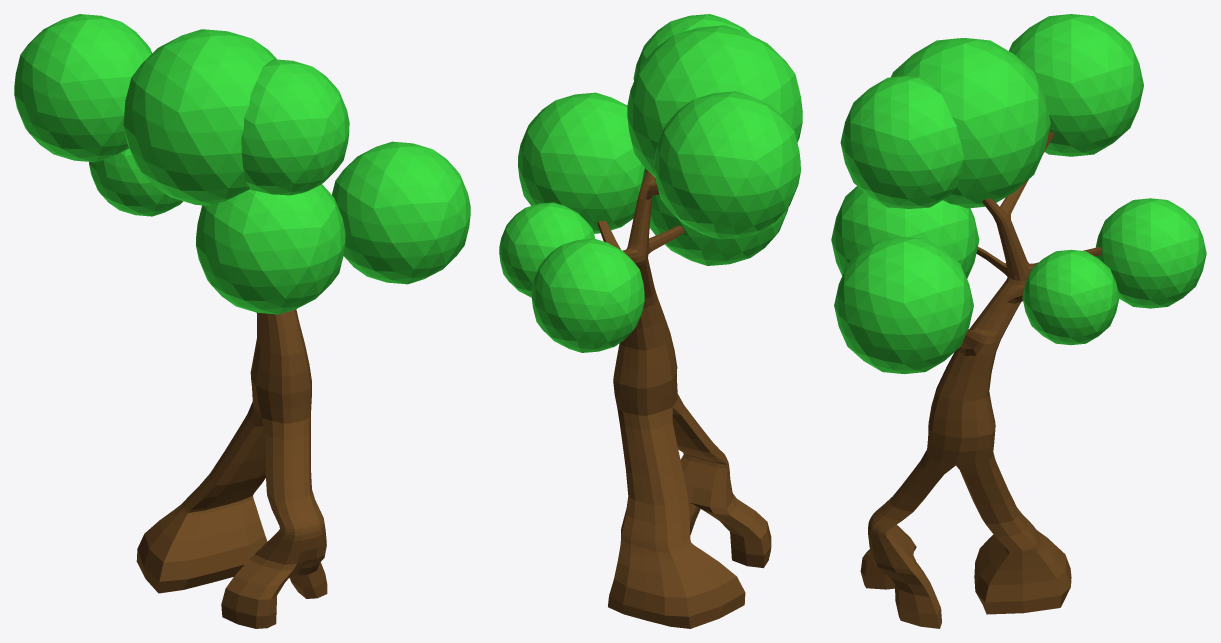
File: TreeLargeFull.fbx
3 renders of one model, left to right at view 1: azimuth 30°, elevation 25°; view 2: azimuth 150°, elevation 25°; view 3: azimuth 270°, elevation 25°, orthographic. The views are drawn at different scales.
Parts seen in each view (by area): view 1: LargeTree.033; view 2: LargeTree.033; view 3: LargeTree.033.
Boxes of the visible parts, x1=… form: LargeTree.033: x1=14, y1=14, x2=470, y2=628; LargeTree.033: x1=499, y1=14, x2=802, y2=628; LargeTree.033: x1=831, y1=14, x2=1206, y2=628.
Bounding box in the file's own units: 122 × 186 × 116.
